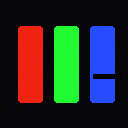3 line_h: (93, 74, 121, 78)
